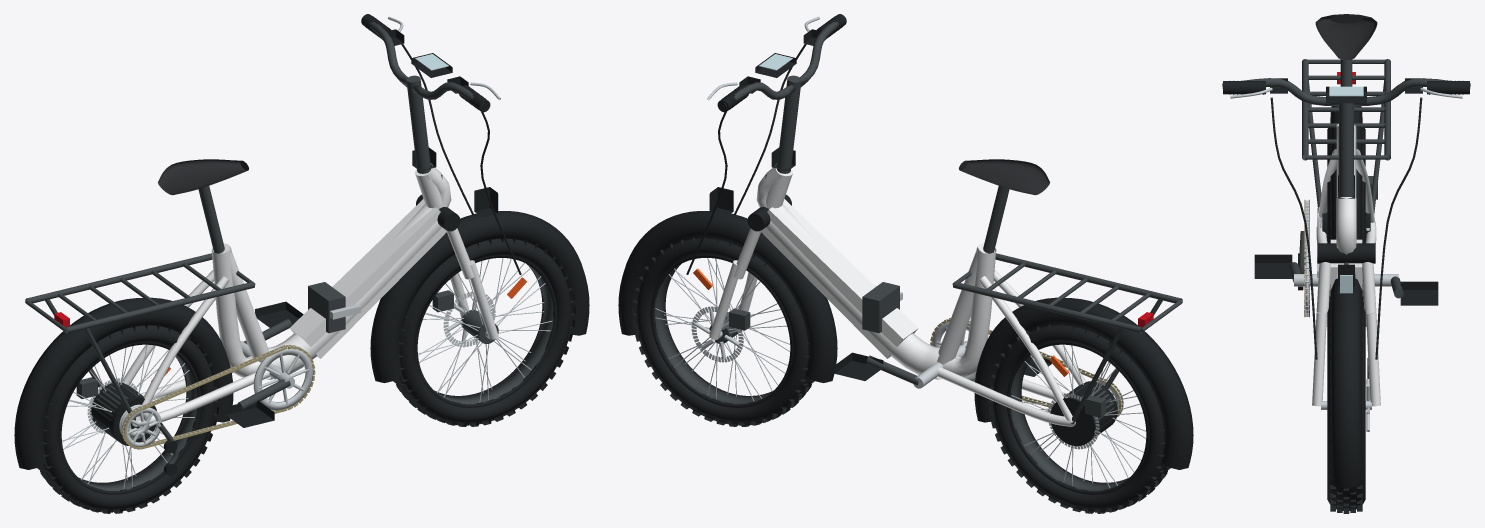
File: rad-power-radexpand-5.glb
The picture shows the model from 3 angles, left to right: view 1: azimuth 30°, elevation 25°; view 2: azimuth 150°, elevation 25°; view 3: azimuth 270°, elevation 25°; orthographic projection. The views are drawn at different scales.
Visible parts, largest first — view 1: Bodywork | black, FrontWheel | rubber, RearWheel | rubber, Chassis | white, BatteryMount | white, Bodywork | graphite, Drive | steel, FrontWheel | steel, FrontWheel | graphite, Cockpit | graphite, RearWheel | graphite, Bodywork | seat (+11 smaller); view 2: Bodywork | black, FrontWheel | rubber, RearWheel | rubber, Chassis | white, BatteryMount | white, Bodywork | graphite, FrontWheel | steel, FrontWheel | graphite, RearWheel | graphite, Cockpit | graphite, RearWheel | steel, Chassis | graphite (+9 smaller); view 3: Bodywork | black, Bodywork | graphite, Fork | white, Chassis | white, Cockpit | graphite, Cockpit | rubber, FrontWheel | rubber, Bodywork | seat, Drive | black, Cockpit | black, Fork | black, Drive | steel (+8 smaller).
Part boxes in pixels (x1,y1,x2,y2): Bodywork | black: (14, 187, 589, 469); FrontWheel | rubber: (393, 237, 575, 426); RearWheel | rubber: (37, 324, 219, 513); Chassis | white: (122, 163, 451, 426); BatteryMount | white: (265, 199, 446, 379); Bodywork | graphite: (25, 253, 255, 420); Drive | steel: (119, 341, 313, 446); FrontWheel | steel: (418, 258, 552, 402); FrontWheel | graphite: (432, 265, 553, 404); Cockpit | graphite: (369, 21, 484, 173); RearWheel | graphite: (76, 355, 197, 490); Bodywork | seat: (158, 159, 248, 195); Bodywork | black: (618, 187, 1193, 469); FrontWheel | rubber: (632, 237, 814, 426); RearWheel | rubber: (988, 324, 1170, 513); Chassis | white: (756, 163, 1085, 426); BatteryMount | white: (761, 199, 942, 379); Bodywork | graphite: (952, 253, 1182, 423); FrontWheel | steel: (655, 258, 790, 401); FrontWheel | graphite: (654, 265, 772, 404); RearWheel | graphite: (1010, 355, 1128, 491); Cockpit | graphite: (723, 21, 838, 173); RearWheel | steel: (1011, 344, 1146, 488); Chassis | graphite: (862, 186, 1009, 333); Bodywork | black: (1330, 106, 1362, 488); Bodywork | graphite: (1302, 59, 1390, 264); Fork | white: (1312, 262, 1380, 406); Chassis | white: (1316, 123, 1376, 254); Cockpit | graphite: (1222, 78, 1470, 196); Cockpit | rubber: (1223, 81, 1469, 359); FrontWheel | rubber: (1327, 299, 1365, 513); Bodywork | seat: (1315, 14, 1377, 60); Drive | black: (1254, 253, 1438, 305); Cockpit | black: (1229, 78, 1463, 198); Fork | black: (1317, 243, 1375, 263); Drive | steel: (1294, 200, 1398, 316).
Bounding box in the file's own units: 1.85 × 1.16 × 0.6634.
